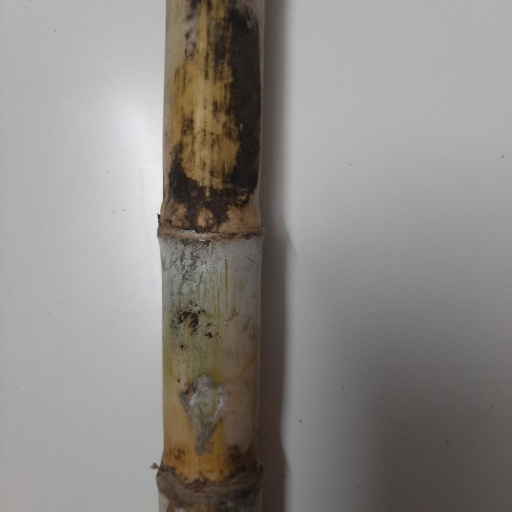Bud: (196, 207, 218, 232)
